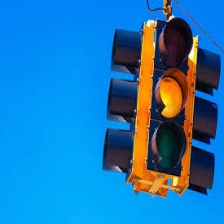semaforo: (137, 16, 197, 192)
